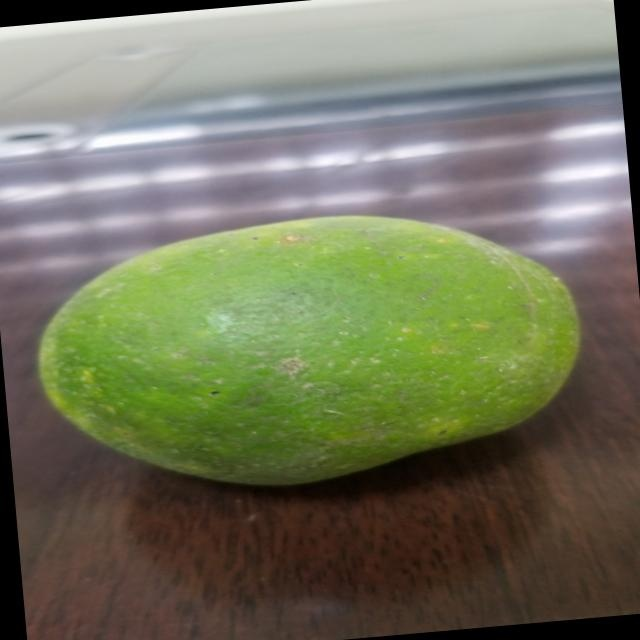agrume: (17, 180, 631, 516)
